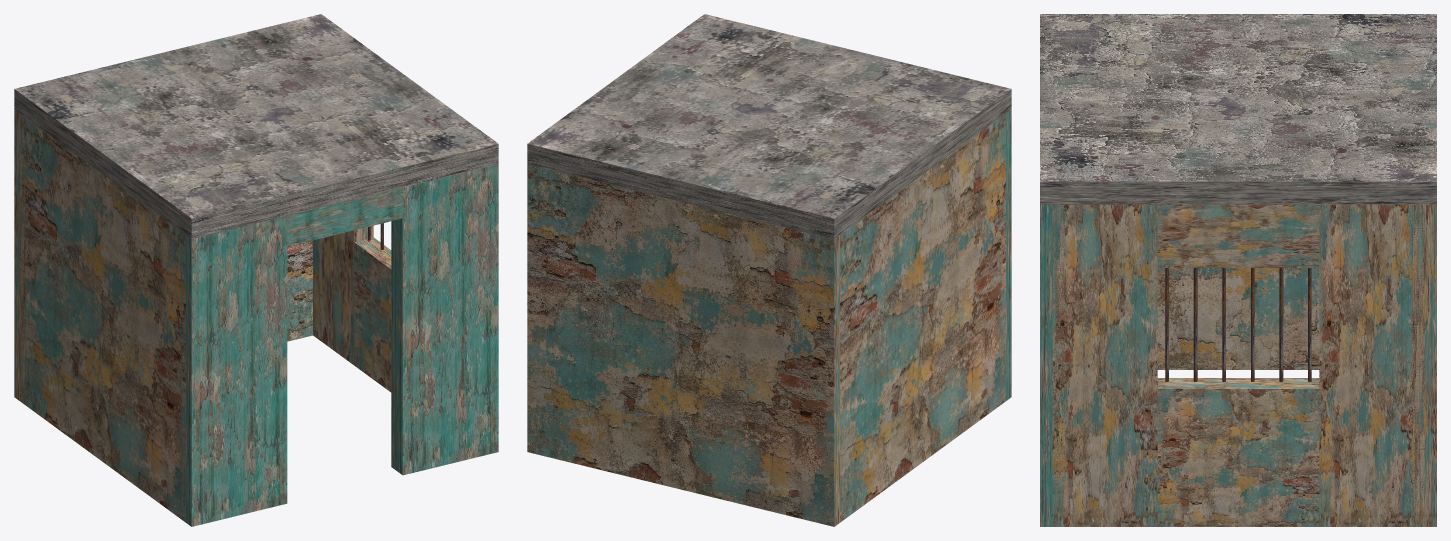
File: prop_chilekotha.glb
3 views of the same model, side by side, from view 1: azimuth 30°, elevation 25°; view 2: azimuth 150°, elevation 25°; view 3: azimuth 270°, elevation 25° (orthographic). The views are drawn at different scales.
Visible parts, largest first — view 1: prop_chilekotha; view 2: prop_chilekotha; view 3: prop_chilekotha.
Part boxes in pixels (<box>): prop_chilekotha: <box>14,14,498,526</box>; prop_chilekotha: <box>527,14,1011,526</box>; prop_chilekotha: <box>1040,14,1436,526</box>.
Bounding box in the file's own units: 2.5 × 2.4 × 2.5.
5 materials, 5 textured.
